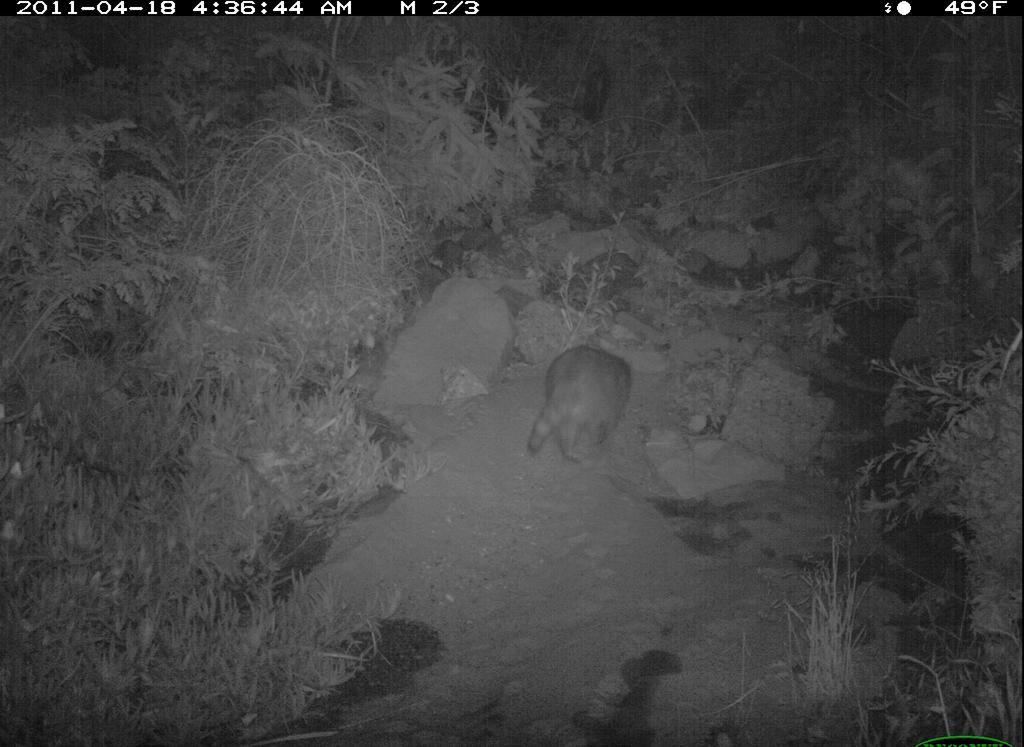raccoon: (530, 336, 652, 481)
